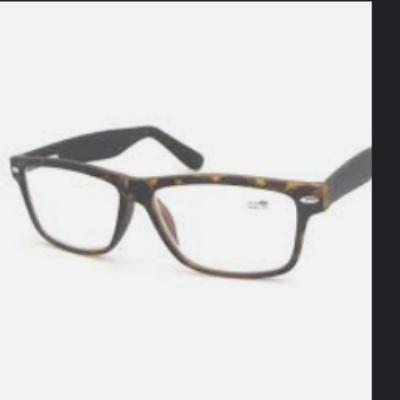glasses: (6, 123, 372, 283)
